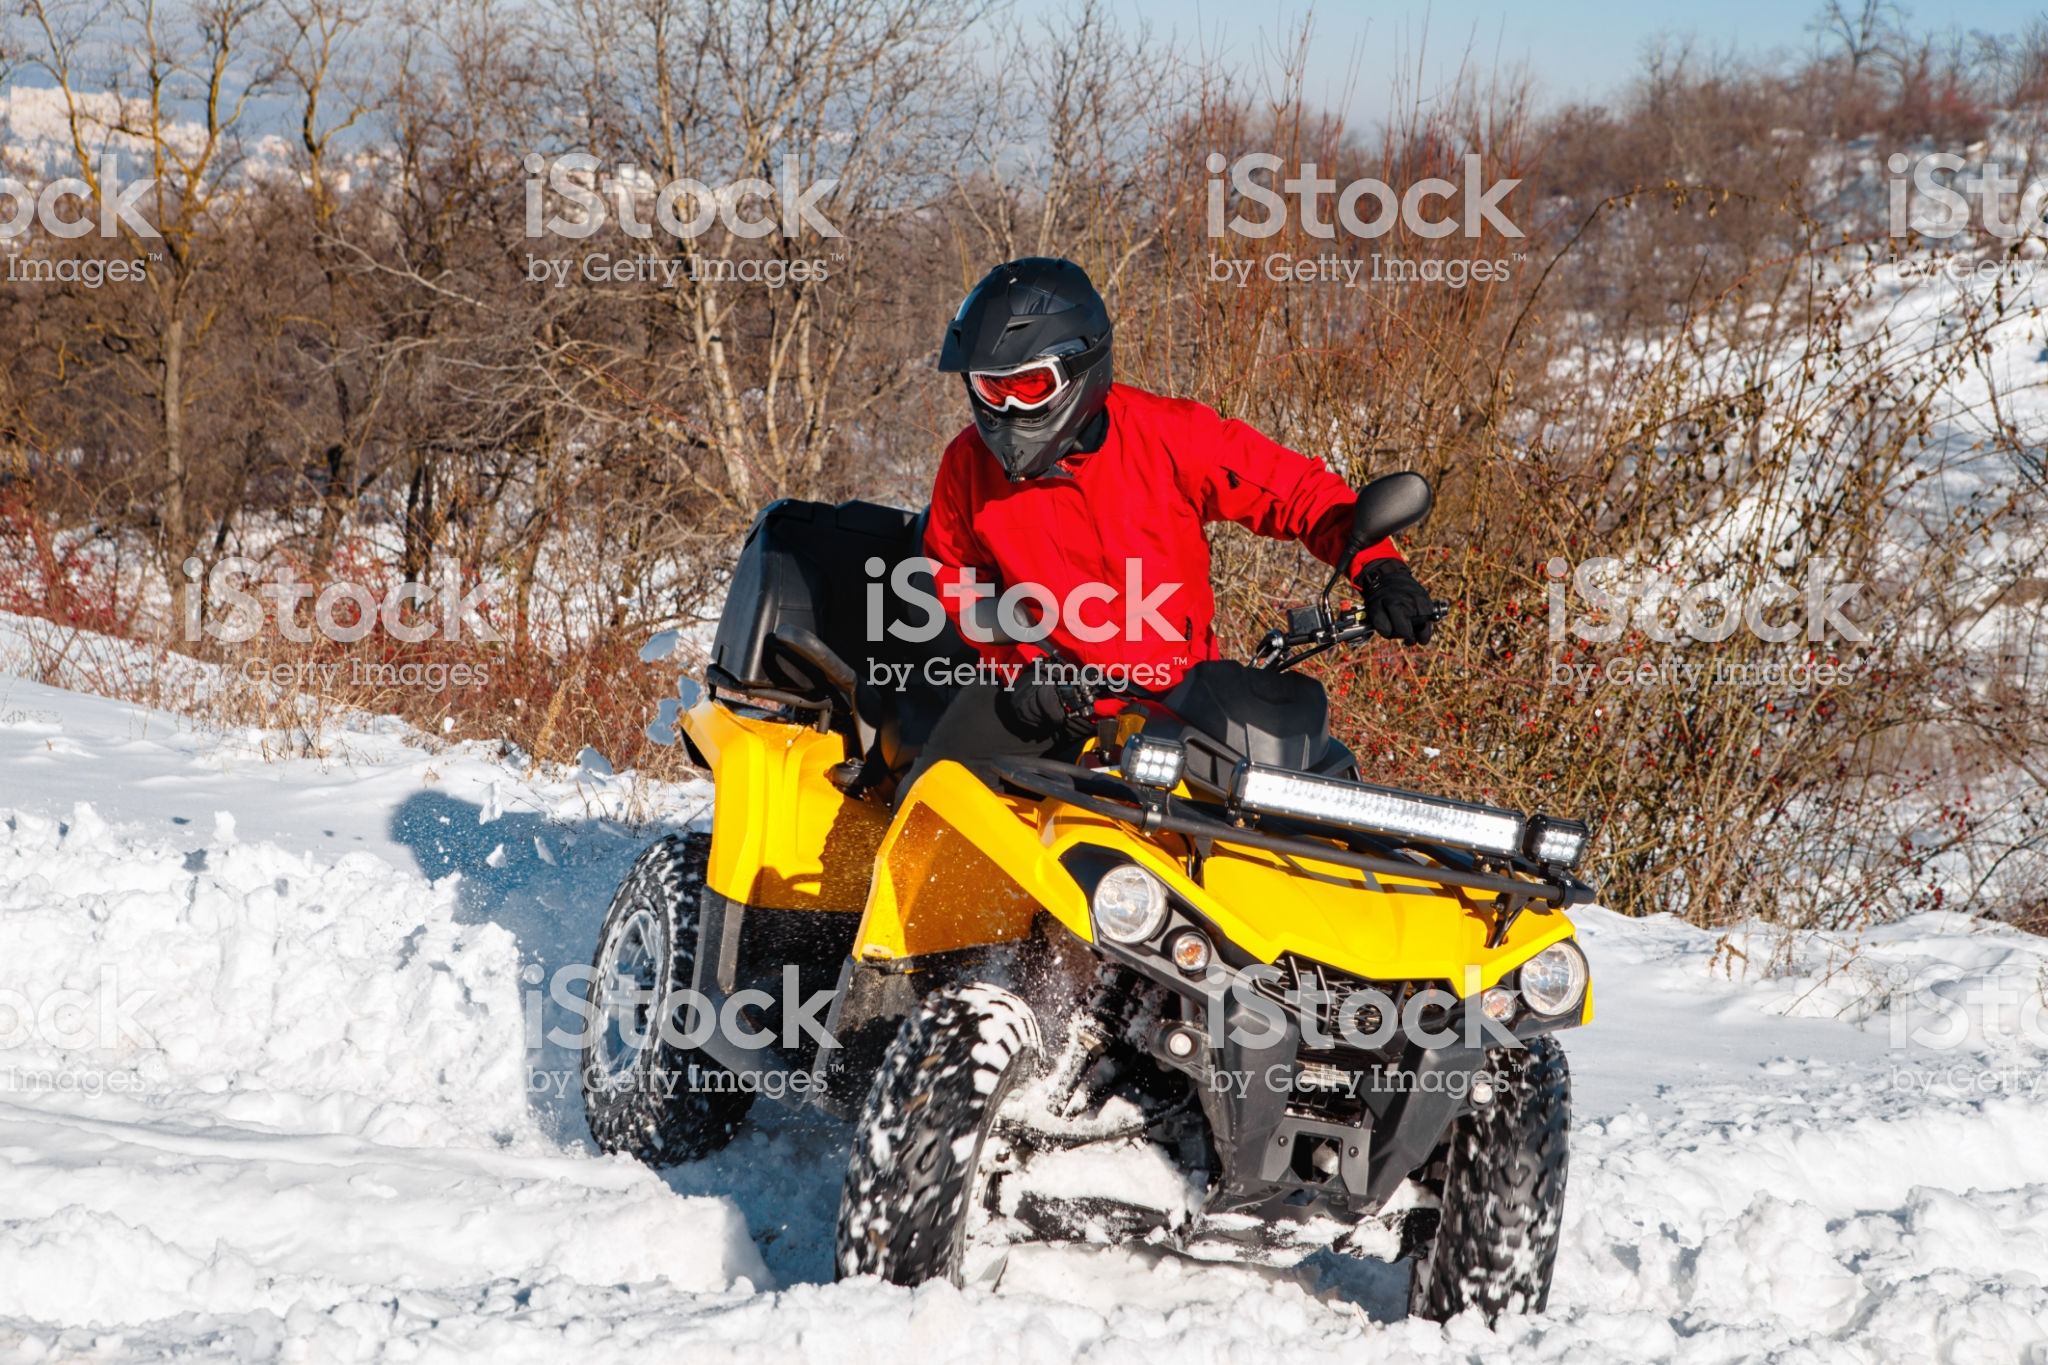helmet: (909, 242, 1159, 471)
